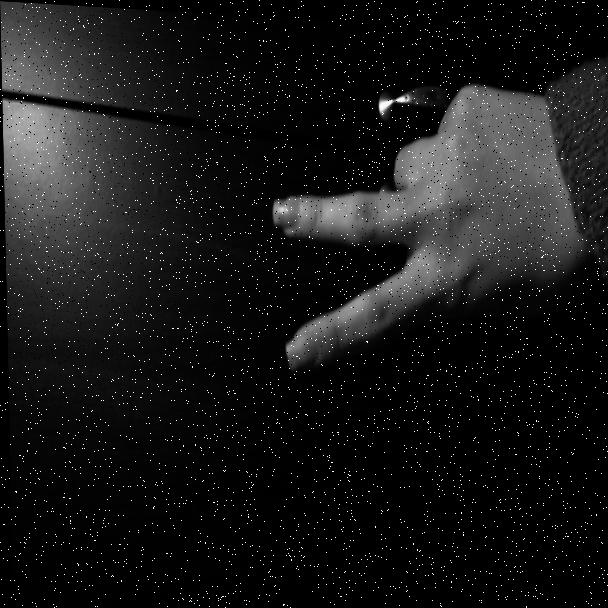two: (266, 89, 575, 389)
